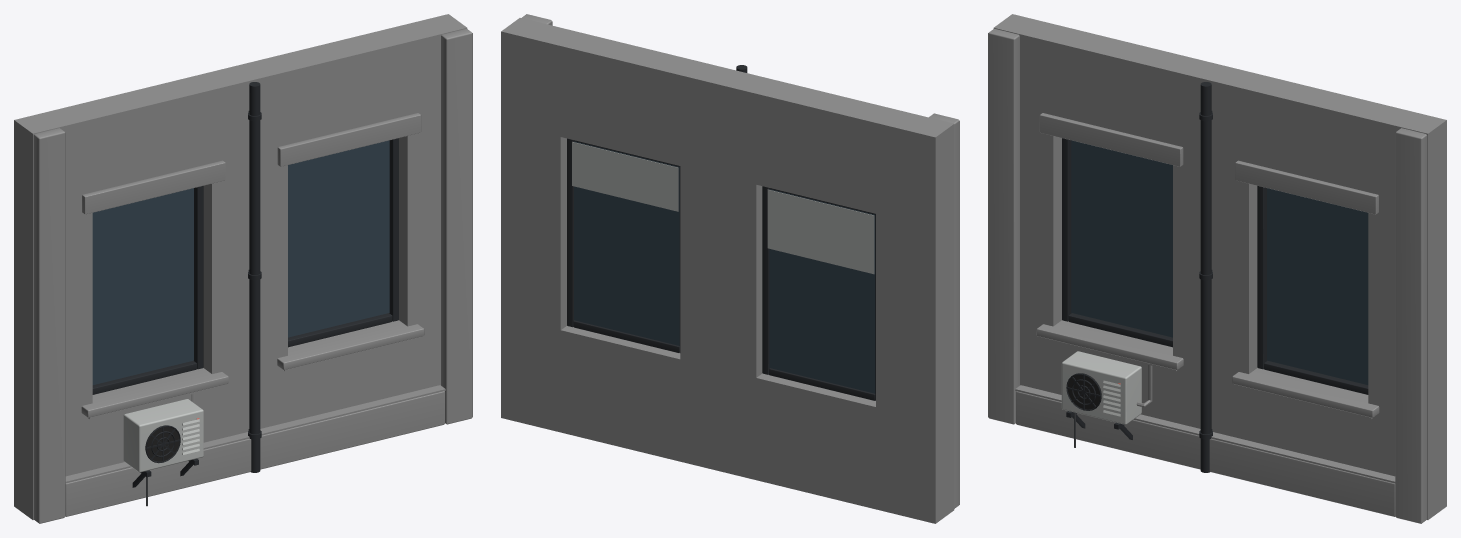
Rendered from Building_Facade_Brick_Window_Double.fbx.
3 views of the same model, side by side, from view 1: azimuth 30°, elevation 25°; view 2: azimuth 150°, elevation 25°; view 3: azimuth 330°, elevation 25° (orthographic).
Parts seen in each view (by area): view 1: Building_Facade_Brick_Window_Double_LOD0; view 2: Building_Facade_Brick_Window_Double_LOD0; view 3: Building_Facade_Brick_Window_Double_LOD0.
Boxes of the visible parts, x1,y1,x2,y2 form: Building_Facade_Brick_Window_Double_LOD0: (14, 14, 472, 523); Building_Facade_Brick_Window_Double_LOD0: (501, 14, 959, 523); Building_Facade_Brick_Window_Double_LOD0: (988, 14, 1446, 523).
Size of what is drawn, in the model's own units: 4 by 3.4 by 0.63.
